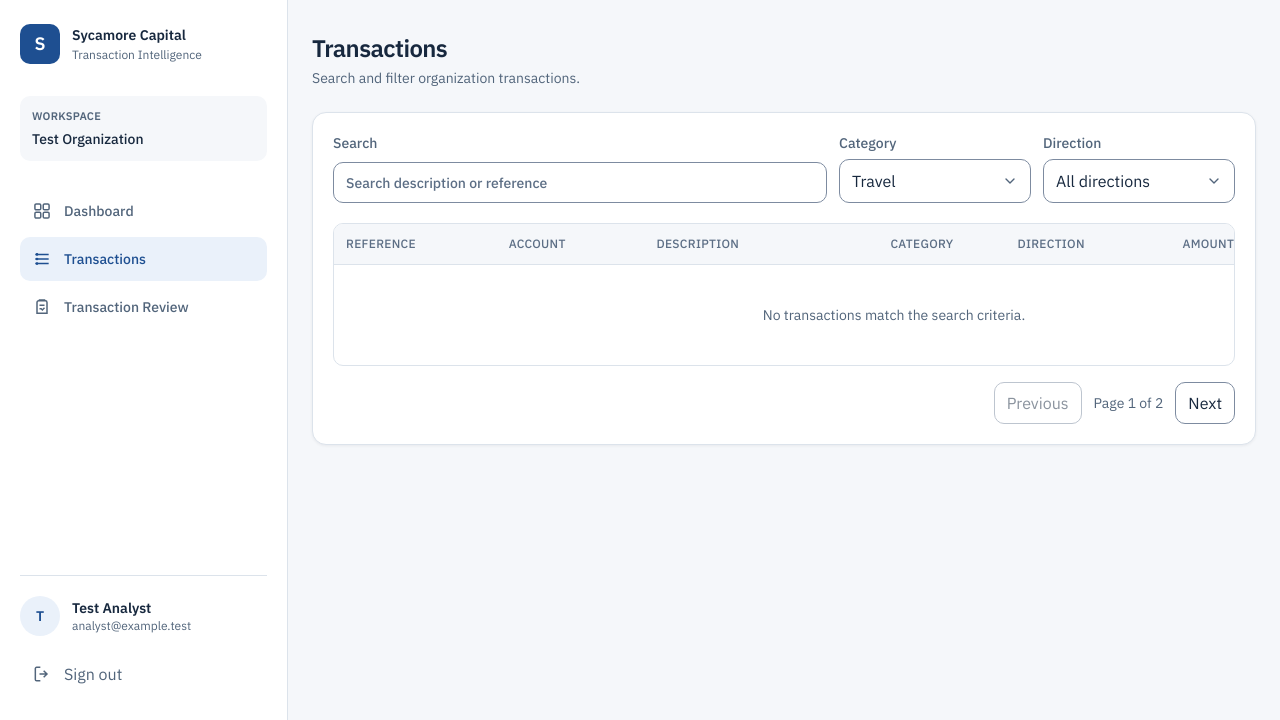
Test case: App transaction filters › returns to page one when any transaction filter changes on a later page
The image size is (1280, 720).
Earlier steps of the test are not shown.
Later steps or results of the test are not shown.
Expected: the text "Page 1 of 2" is shown, [1094,393,1163,413]
Click the button with aria-label "Next page".
click(1205, 403)  # box [1175,382,1235,424]
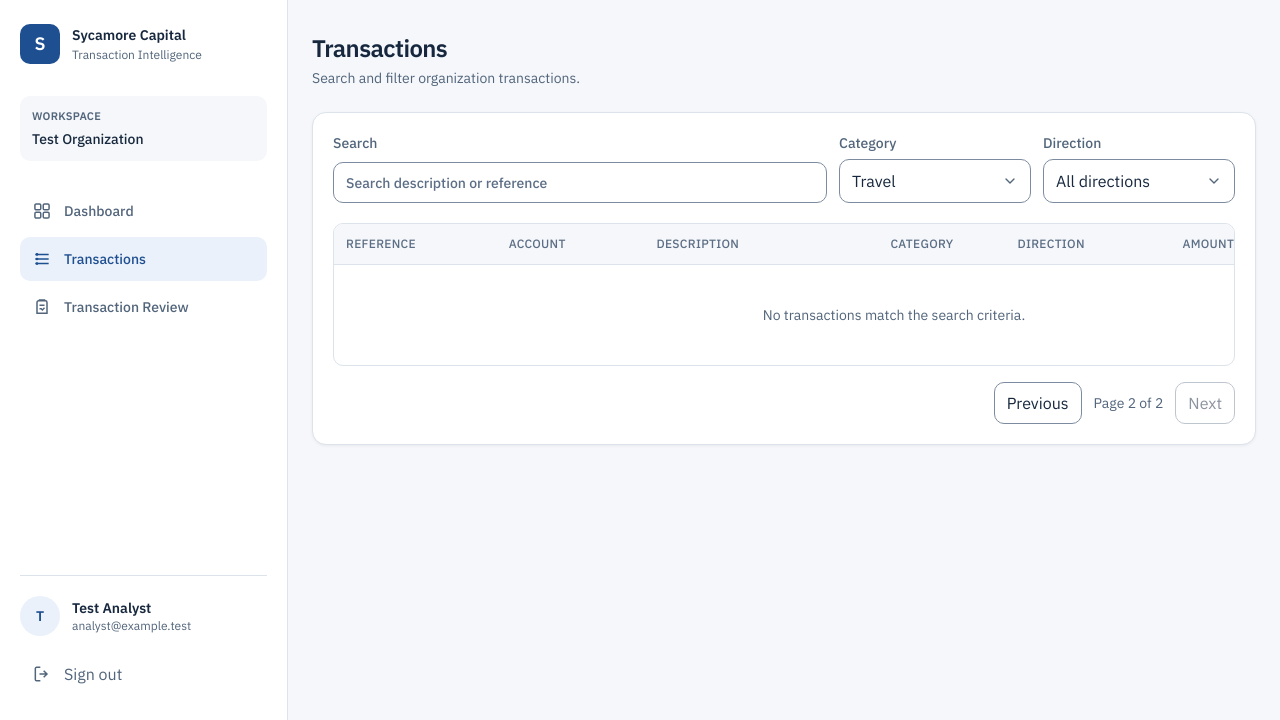
Result: the text "Page 2 of 2" is shown at [1094,393,1163,413]
Press ArrowDown in the dropdown labelled "direction", box [1043,159,1235,203]
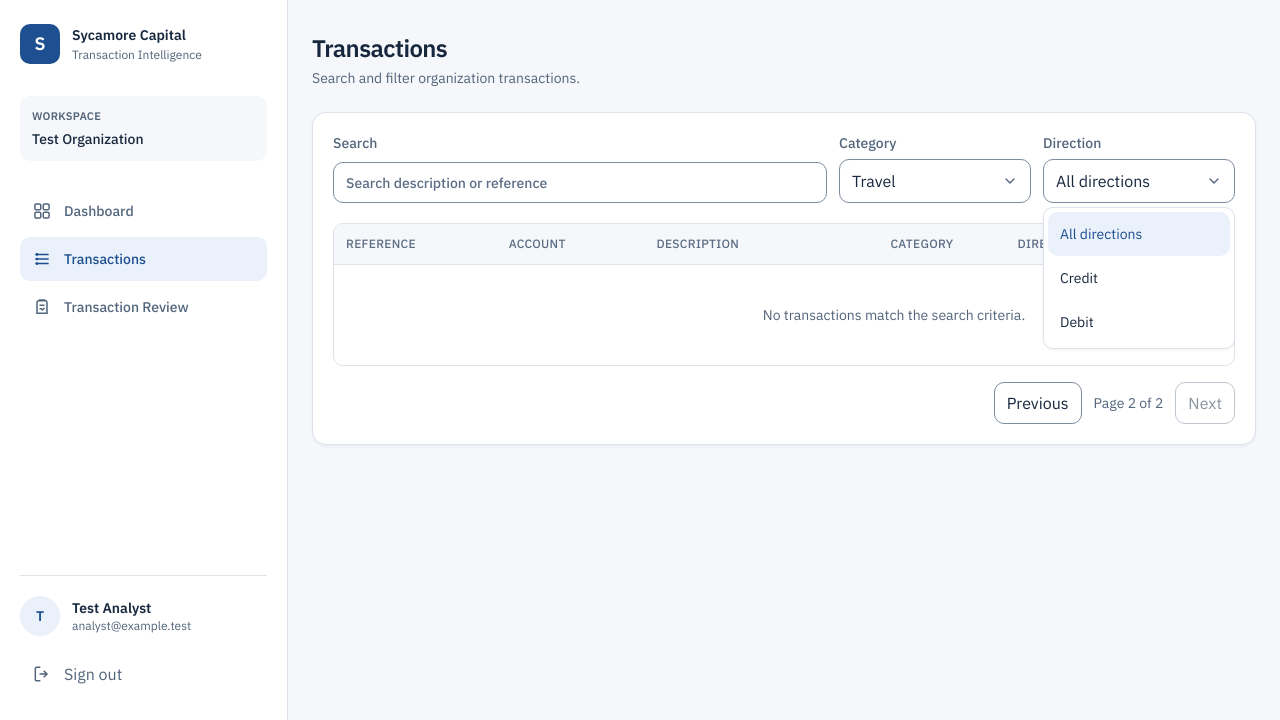
Press ArrowDown in the dropdown labelled "direction", box [1043,159,1235,203]
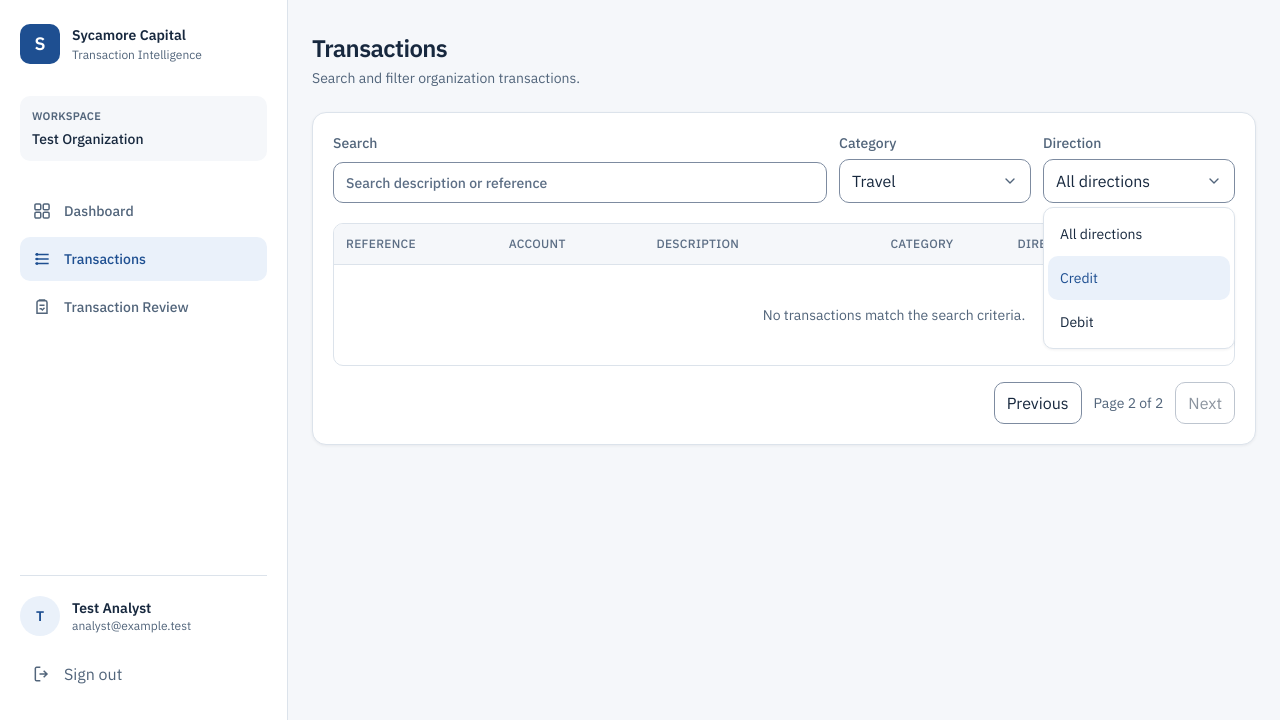
Press Enter in the dropdown labelled "direction", box [1043,159,1235,203]
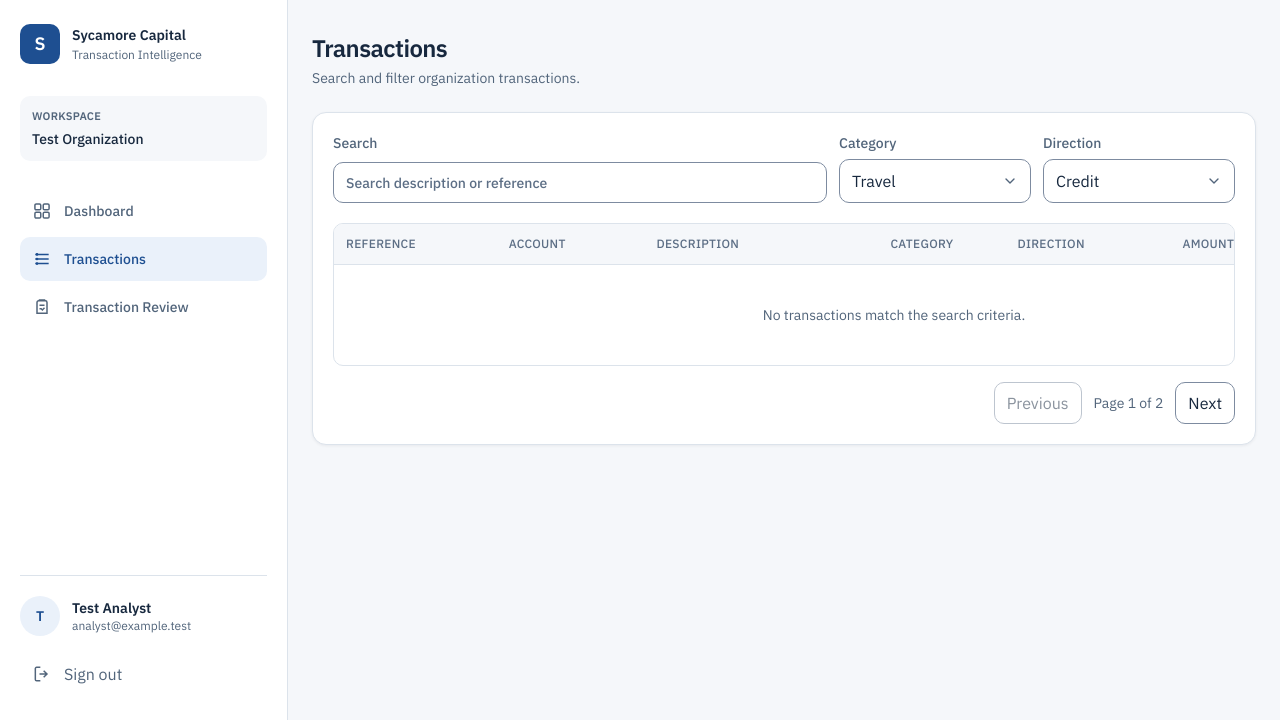
Result: the text "Page 1 of 2" is shown at [1094,393,1163,413]
Click the button with aria-label "Next page".
click(1205, 403)  # box [1175,382,1235,424]
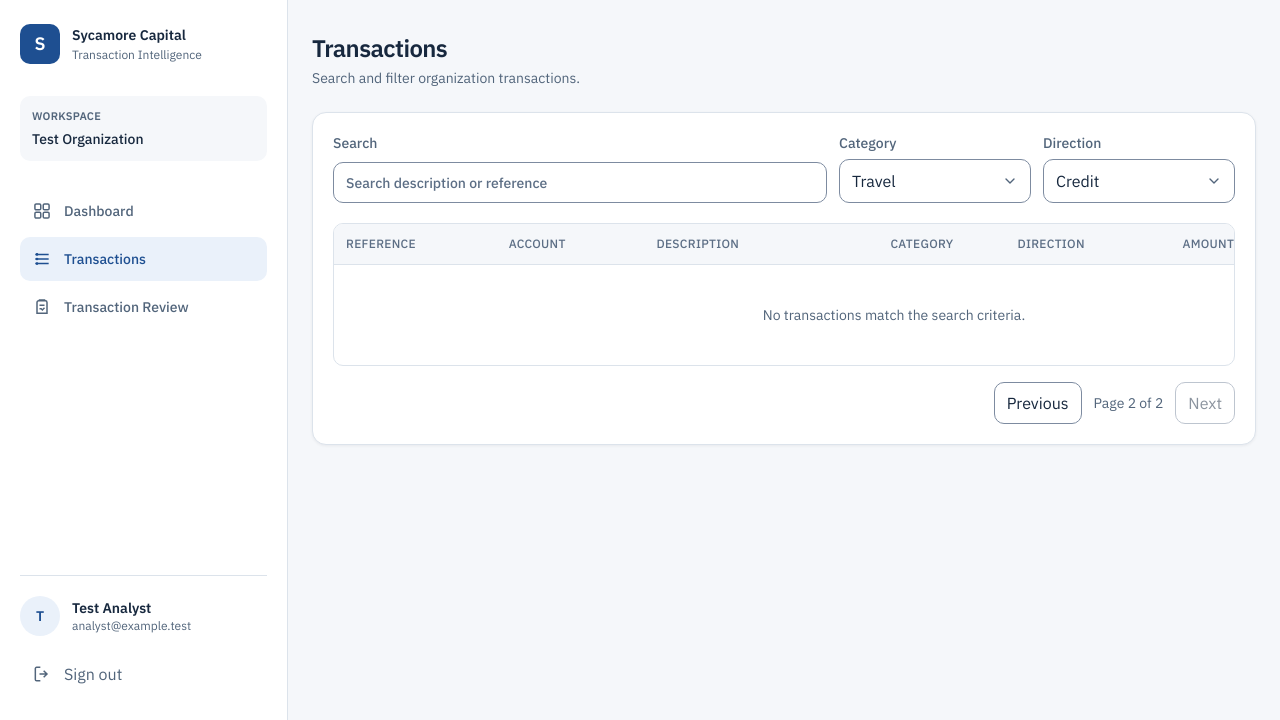
Result: the text "Page 2 of 2" is shown at [1094,393,1163,413]
